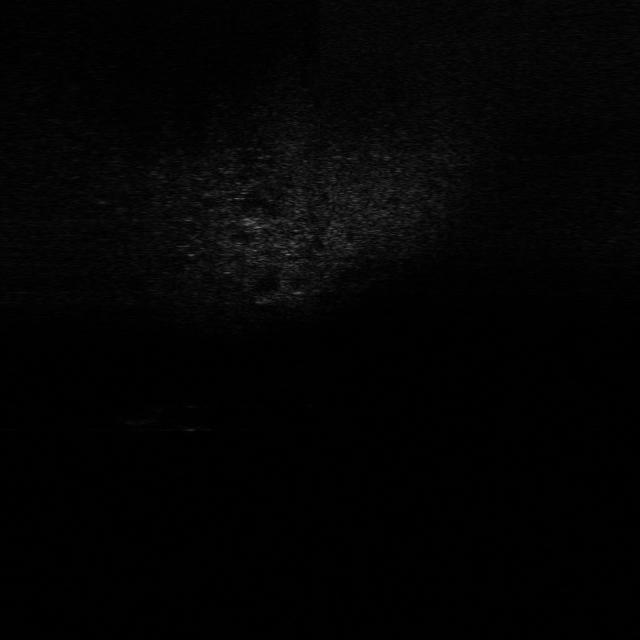ball: (174, 401, 212, 434)
circle cage: (116, 402, 166, 433)
